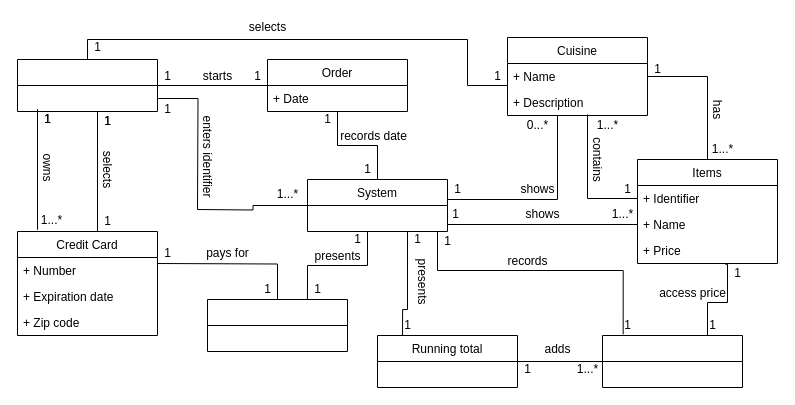
Some shapes in this 795 by 405 pixel diagram are drawn without their labels. The shapes that lost their labels are listed below. From the top down, each one's centre as x and y in pixels, then its label:
At point 87,85: "Customer".
At point 277,325: "Total".
At point 672,361: "Order Line Item".
